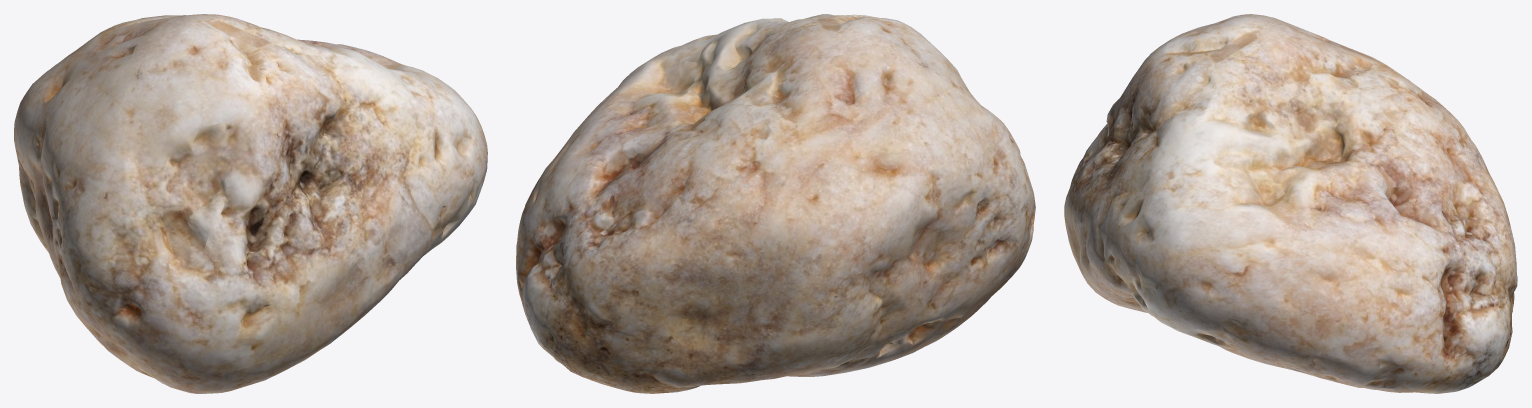
3 views of the same model, side by side, from view 1: azimuth 30°, elevation 25°; view 2: azimuth 150°, elevation 25°; view 3: azimuth 270°, elevation 25° (orthographic). The views are drawn at different scales.
Parts seen in each view (by area): view 1: rock-013; view 2: rock-013; view 3: rock-013.
Part boxes in pixels (x1,y1,x2,y2): rock-013: (14,14,487,393); rock-013: (516,14,1035,393); rock-013: (1064,14,1517,393).
Bounding box in the file's own units: 2 × 1.46 × 1.98.
Materials: 1 (1 with a texture image).
